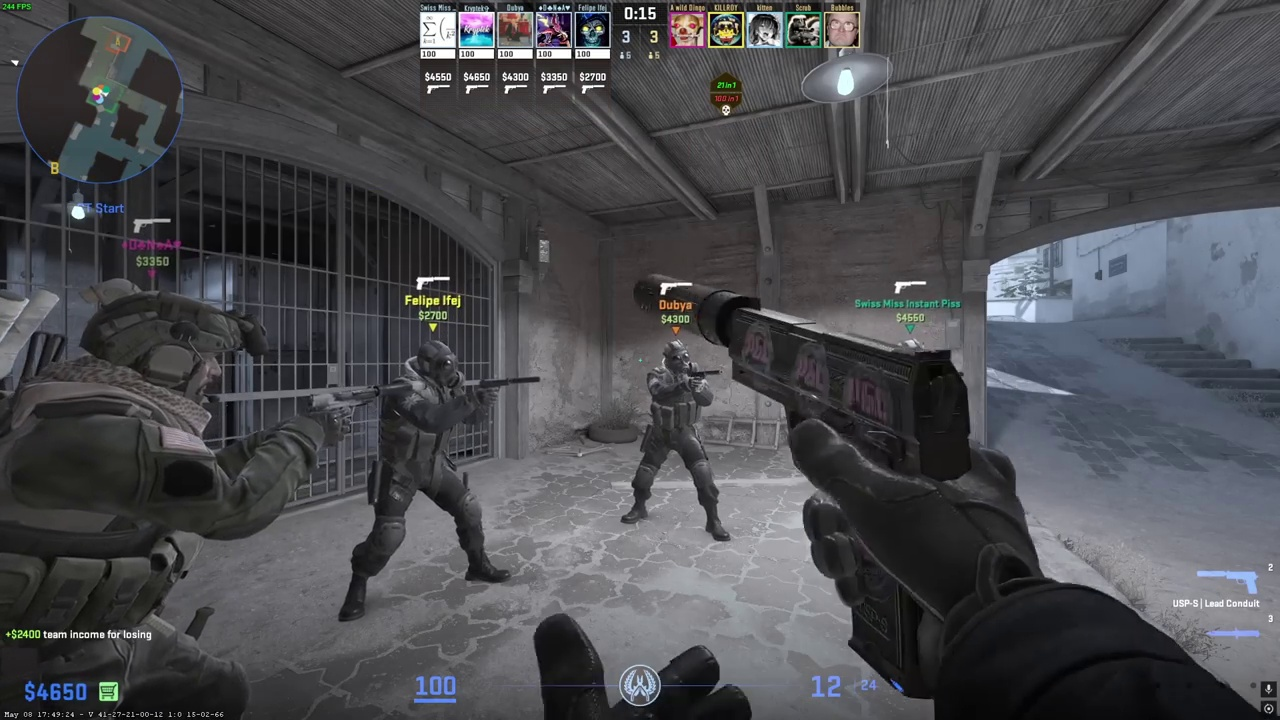CT: (0, 278, 278, 720), (356, 340, 513, 613), (623, 339, 731, 541)
